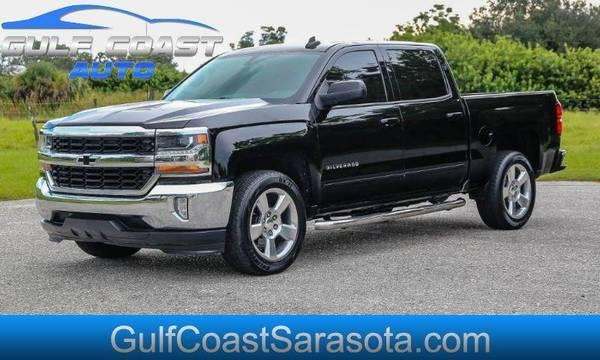Front_Bumper: (36, 173, 235, 251)
Front_Fender: (184, 104, 324, 211)
Front_Left_Door: (316, 100, 407, 212)
Front_Left_Window: (315, 48, 394, 107)
Front_Windshield: (168, 49, 330, 102)
Grille: (41, 120, 159, 195)
Hood: (49, 95, 315, 128)
Left_Headlight: (156, 127, 214, 182)
Rear_Fender: (461, 90, 562, 189)
Rear_Left_Door: (395, 96, 469, 201)
Rear_Left_Window: (383, 48, 450, 100)
Roof: (302, 42, 463, 106)
Wheel: (228, 165, 310, 273), (479, 148, 542, 229)
